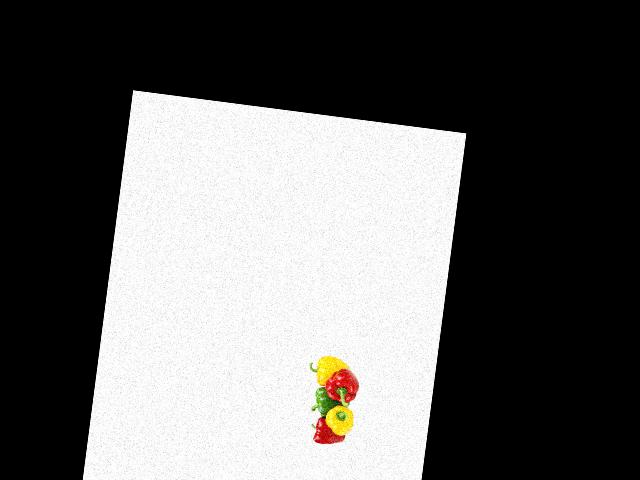bell_pepper: (307, 415, 343, 448)
